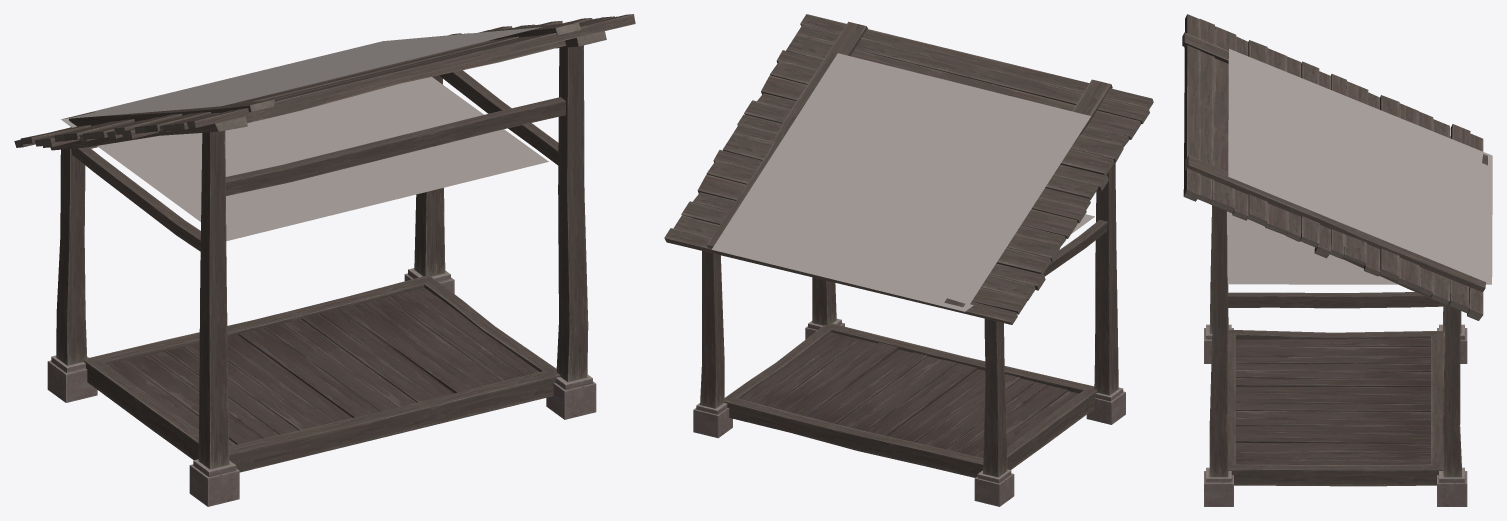
The model's file is Homeworld_Exterior_Dq_Build_House_37_Lod0.fbx.
3 renders of one model, left to right at view 1: azimuth 30°, elevation 25°; view 2: azimuth 150°, elevation 25°; view 3: azimuth 270°, elevation 25°, orthographic. The views are drawn at different scales.
Parts seen in each view (by area): view 1: Area_Dq_Build_Common_Mupeng_02_Lod0, Area_Dq_Build_Common_Mupeng_02_Ocl; view 2: Area_Dq_Build_Common_Mupeng_02_Lod0, Area_Dq_Build_Common_Mupeng_02_Ocl; view 3: Area_Dq_Build_Common_Mupeng_02_Lod0, Area_Dq_Build_Common_Mupeng_02_Ocl.
Boxes of the visible parts, x1=… form: Area_Dq_Build_Common_Mupeng_02_Lod0: x1=14, y1=14, x2=635, y2=506; Area_Dq_Build_Common_Mupeng_02_Ocl: x1=61, y1=27, x2=548, y2=240; Area_Dq_Build_Common_Mupeng_02_Lod0: x1=664, y1=14, x2=1153, y2=506; Area_Dq_Build_Common_Mupeng_02_Ocl: x1=712, y1=53, x2=1094, y2=311; Area_Dq_Build_Common_Mupeng_02_Lod0: x1=1182, y1=14, x2=1487, y2=506; Area_Dq_Build_Common_Mupeng_02_Ocl: x1=1227, y1=49, x2=1492, y2=284.
Bounding box in the file's own units: 4.79 × 4.16 × 3.53.
